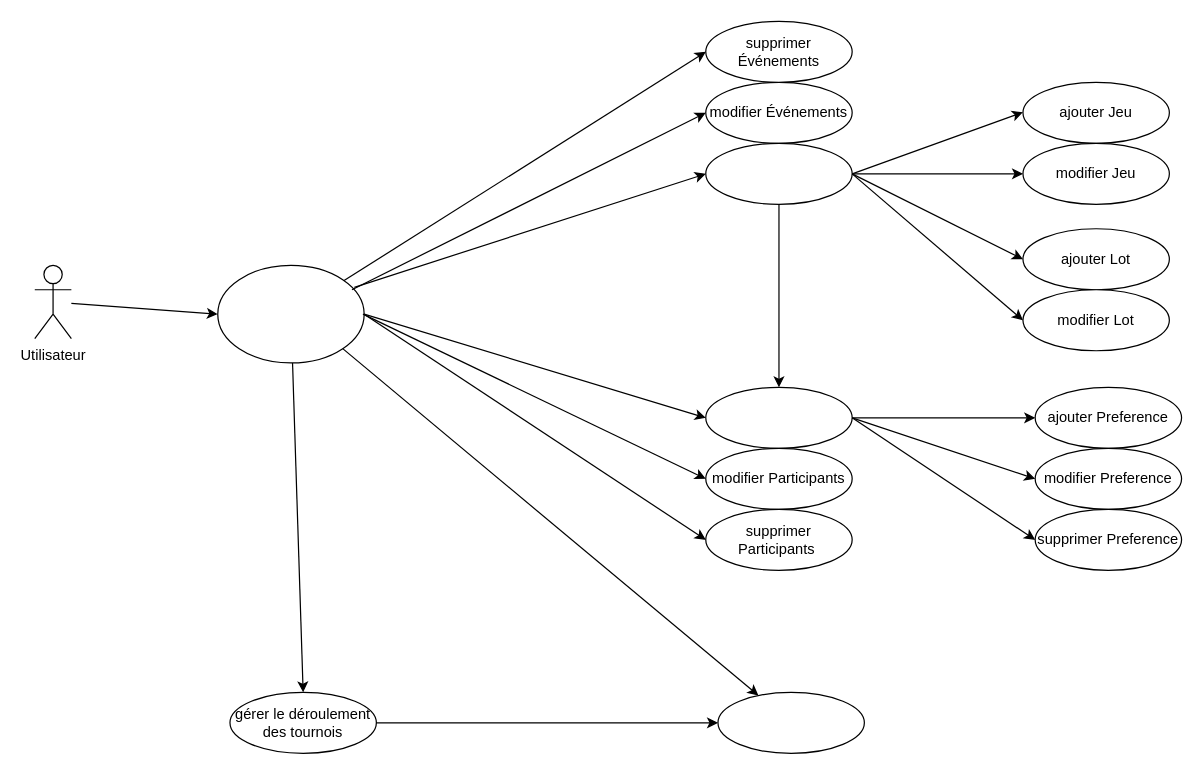
Some shapes in this 1203 by 775 pixel diagram are drawn without their labels. The shapes that lost their labels are listed below. From the top down, each one's centre as x and y in pixels, then its label:
(x=778, y=173): ajouter Événements
(x=290, y=313): connect
(x=778, y=417): ajouter Participants
(x=790, y=722): ajouter Gagnant
